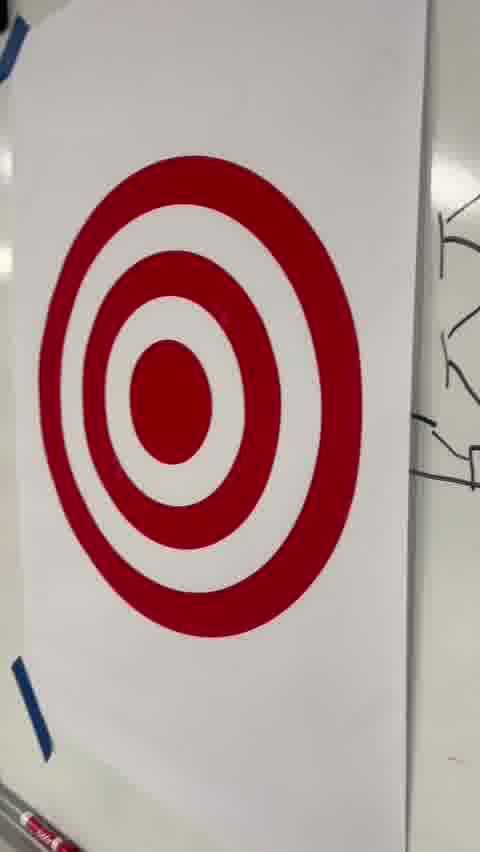target_red: (37, 153, 363, 639)
